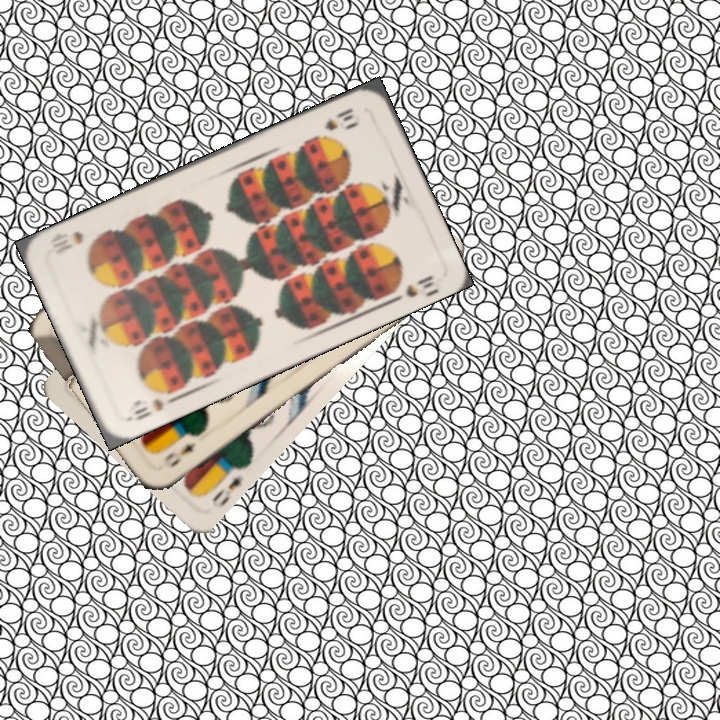EO: (205, 462, 246, 507), (159, 438, 199, 471)
S10: (131, 393, 179, 423), (320, 104, 360, 134)
